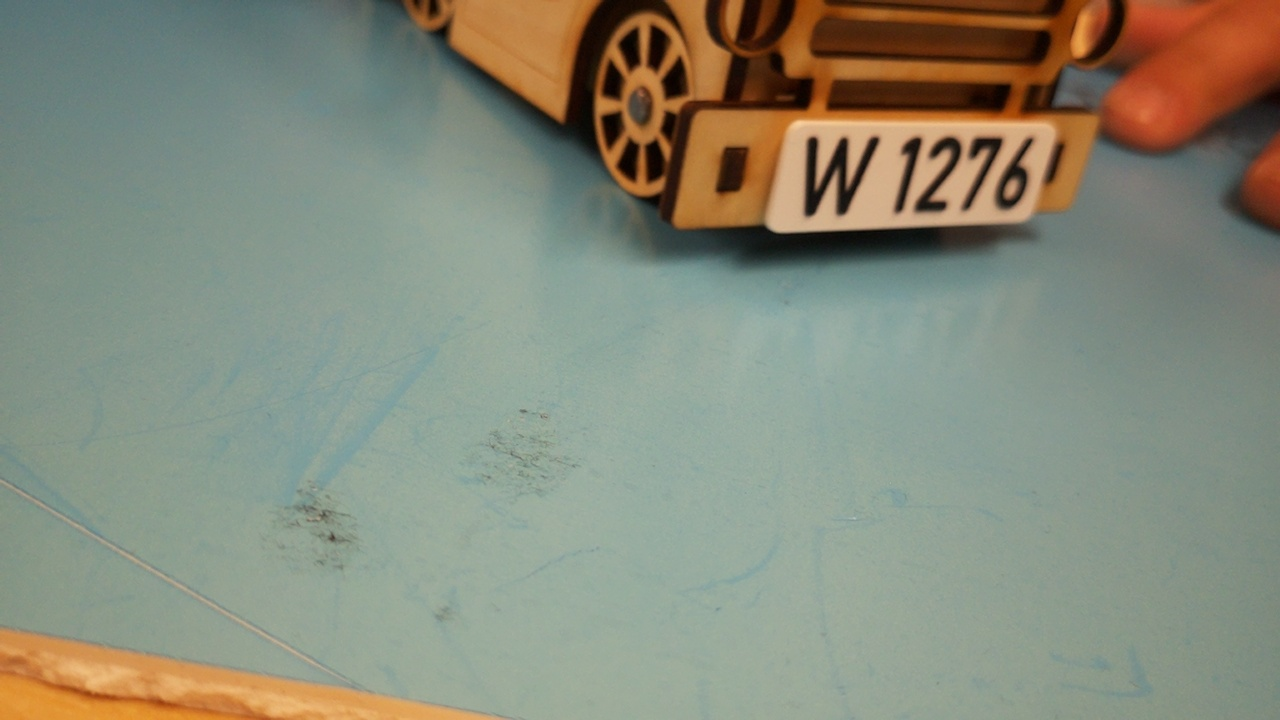license_plate: (761, 117, 1059, 236)
